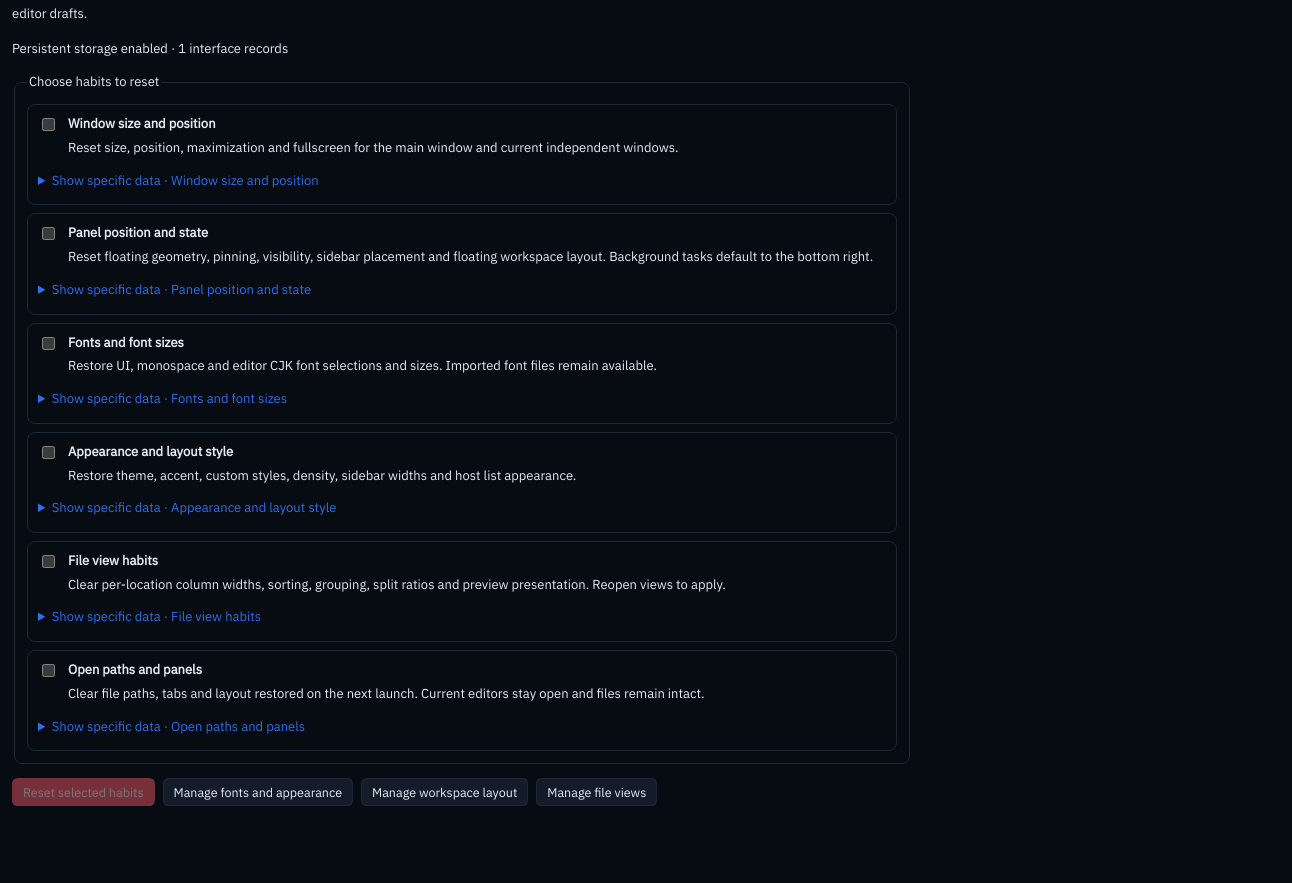
loads concrete saved data only on expansion and keeps expansion separate from reset selection
Click the heading "Show specific data · Panel position and state" at [182, 289], box [52,281,311,298]
(page scrolled)
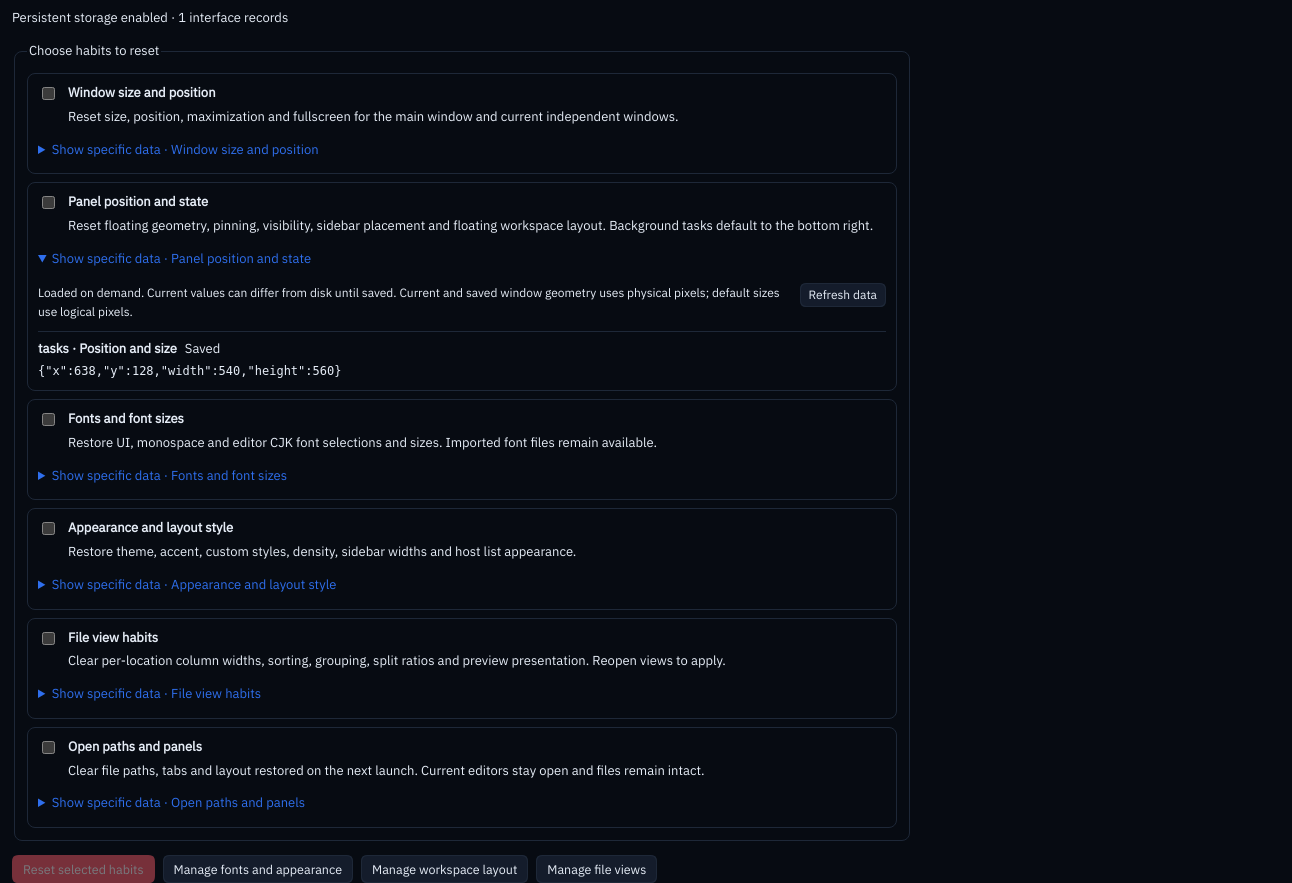
expect the button "Reset selected habits" is disabled: met, box [12,855,154,882]
expect the text "{\"x\":638,\"y\":128,\"width\":540,\"height\":560}" is shown: met, box [38,364,341,378]
expect the text "Saved" is shown: met, box [185,340,220,359]
